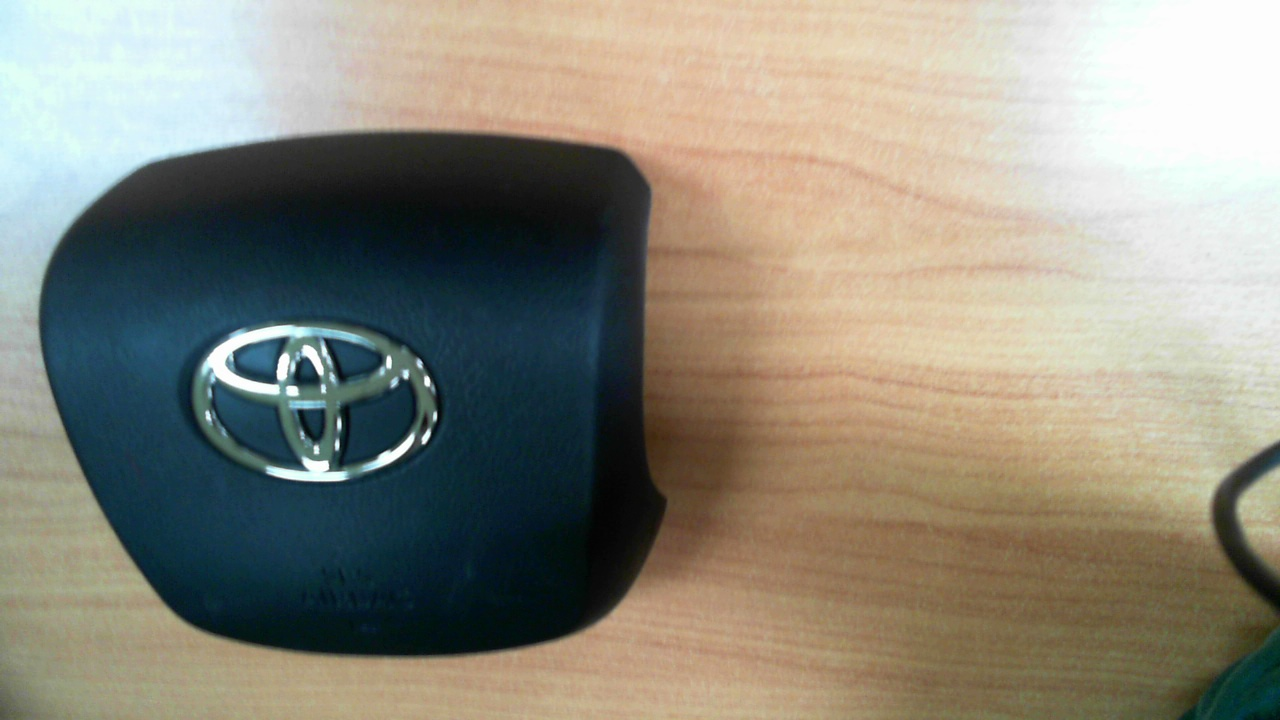Airbag: (36, 129, 669, 659)
Toyota: (192, 324, 438, 482)
